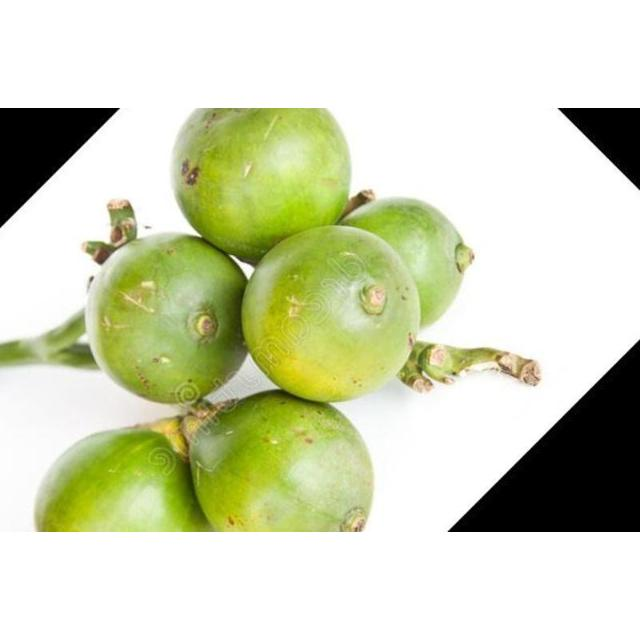good: (243, 227, 417, 401), (87, 234, 249, 406), (176, 109, 348, 261), (190, 392, 372, 532), (35, 426, 204, 532), (338, 198, 466, 328)
